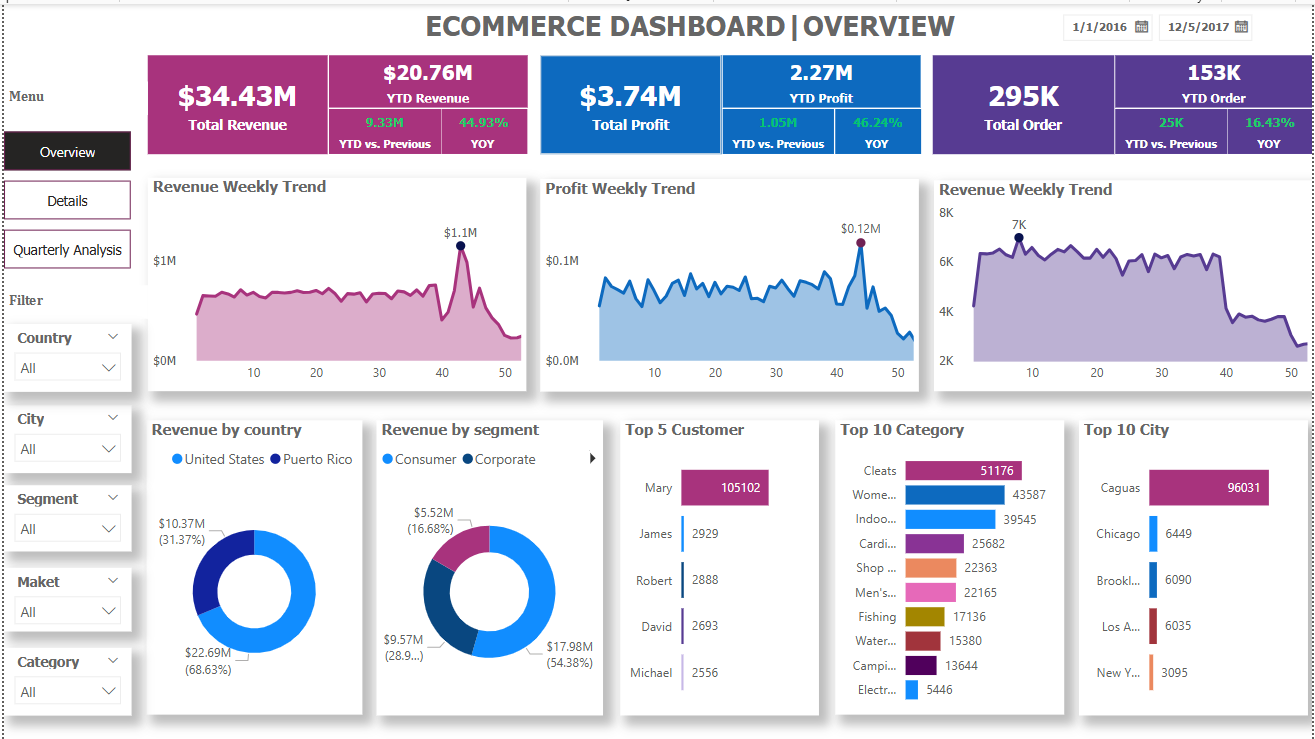

This screenshot's page, from the dashboard's own definition file:
{"tool":"powerbi","page":{"name":"Overview","canvas":[1280,720],"ordinal":0},"visuals":[{"type":"textbox","box":[407.2,0,568.6,50.1],"z":0},{"type":"card","fields":{"Values":["ecommerce_order.Total Revenue"]},"box":[140.6,50.1,176.1,96.6],"z":1000},{"type":"card","fields":{"Values":["ecommerce_order.YTD Revenue"]},"box":[317.9,50.1,194.4,51.4],"z":2000},{"type":"card","fields":{"Values":["ecommerce_order.Diff Revenue"]},"box":[318.4,102.9,109.8,43.9],"z":3000},{"type":"card","fields":{"Values":["ecommerce_order.YOY Revenue"]},"box":[428.1,102.9,83.7,43.9],"z":4000},{"type":"card","fields":{"Values":["ecommerce_order.Total Profit"]},"box":[524.6,50.1,177.3,96.6],"z":5000},{"type":"card","fields":{"Values":["ecommerce_order.YTD Profit"]},"box":[703.1,50.1,193.2,51.4],"z":6000},{"type":"card","fields":{"Values":["ecommerce_order.Diff Profit"]},"box":[703.1,102.7,108.8,44],"z":7000},{"type":"card","fields":{"Values":["ecommerce_order.Total Order"]},"box":[908.6,50.1,177.3,96.6],"z":8000},{"type":"card","fields":{"Values":["ecommerce_order.YTD Order"]},"box":[1086.8,50.1,193.2,51.4],"z":9000},{"type":"card","fields":{"Values":["ecommerce_order.Diff Order"]},"box":[1086.8,102.9,109.8,43.9],"z":10000},{"type":"card","fields":{"Values":["ecommerce_order.YOY Order"]},"box":[1196.6,102.9,83.7,43.9],"z":11000},{"type":"card","fields":{"Values":["ecommerce_order.YOY Profit"]},"box":[813.2,102.7,84.4,44],"z":12000},{"type":"slicer","fields":{"Values":["calendar.Date_format"]},"box":[1023.5,0,215.2,40.4],"z":13000},{"type":"areaChart","title":"Revenue Weekly Trend","fields":{"Category":["calendar.Week_No"],"Y":["ecommerce_order.Total Revenue","ecommerce_order.MaxPoint"]},"box":[140.6,170,370.5,209.1],"z":14000},{"type":"areaChart","title":"Profit Weekly Trend","fields":{"Category":["calendar.Week_No"],"Y":["ecommerce_order.Total Profit","ecommerce_order.MaxPoint Profit"]},"box":[524.6,171.2,370.5,207.9],"z":15000},{"type":"areaChart","title":"Revenue Weekly Trend","fields":{"Category":["calendar.Week_No"],"Y":["ecommerce_order.Total Order","ecommerce_order.MaxPoint Order"]},"box":[909.8,172.4,370.5,206.7],"z":16000},{"type":"donutChart","title":"Revenue by country","fields":{"Y":["ecommerce_order.Total Revenue"],"Category":["ecommerce_customer.customer_country"]},"box":[140,407.5,211.3,288.2],"z":17000},{"type":"donutChart","title":"Revenue by segment","fields":{"Y":["ecommerce_order.Total Revenue"],"Category":["ecommerce_customer.customer_segment"]},"box":[364.4,407.2,221.3,288.6],"z":18000},{"type":"clusteredBarChart","title":"Top 5 Customer","fields":{"Y":["ecommerce_order.Total Order"],"Category":["ecommerce_customer.customer_fname"]},"box":[602.9,407.2,194.4,288.6],"z":19000},{"type":"clusteredBarChart","title":"Top 10 Category","fields":{"Y":["ecommerce_order.Total Order"],"Category":["ecommerce_order.category_name"]},"box":[813.7,407.5,223.7,288.2],"z":20000},{"type":"textbox","box":[0,75.8,140.6,33],"z":21000},{"type":"textbox","box":[0,275.1,140.6,33],"z":22000},{"type":"slicer","fields":{"Values":["ecommerce_customer.customer_city"]},"box":[0,392.5,124.7,66],"z":23000},{"type":"slicer","fields":{"Values":["ecommerce_customer.customer_segment"]},"box":[0,470.8,124.7,64.8],"z":24000},{"type":"slicer","fields":{"Values":["ecommerce_order.market"]},"box":[0,551.5,124.7,62.4],"z":25000},{"type":"slicer","fields":{"Values":["ecommerce_order.category_name"]},"box":[0,629.8,124.7,66],"z":26000},{"type":"pageNavigator","box":[0,124.7,124.7,135.7],"z":27000},{"type":"slicer","fields":{"Values":["ecommerce_customer.customer_country"]},"box":[0,313,124.7,66],"z":28000},{"type":"clusteredBarChart","title":"Top 10 City","fields":{"Y":["ecommerce_order.Total Order"],"Category":["ecommerce_customer.customer_city"]},"box":[1051.6,407.2,223.8,288.6],"z":28001}]}

Visuals, with their boxes in screenshot pixels (x1, y1, x2, y2), scaled from the page's 1280x720 canvas onto the 1315x739 screenshot:
textbox: <box>418,0,1002,51</box>
card - ecommerce_order.Total Revenue: <box>144,51,325,151</box>
card - ecommerce_order.YTD Revenue: <box>327,51,526,104</box>
card - ecommerce_order.Diff Revenue: <box>327,106,440,151</box>
card - ecommerce_order.YOY Revenue: <box>440,106,526,151</box>
card - ecommerce_order.Total Profit: <box>539,51,721,151</box>
card - ecommerce_order.YTD Profit: <box>722,51,921,104</box>
card - ecommerce_order.Diff Profit: <box>722,105,834,151</box>
card - ecommerce_order.Total Order: <box>933,51,1116,151</box>
card - ecommerce_order.YTD Order: <box>1117,51,1314,104</box>
card - ecommerce_order.Diff Order: <box>1117,106,1229,151</box>
card - ecommerce_order.YOY Order: <box>1229,106,1314,151</box>
card - ecommerce_order.YOY Profit: <box>835,105,922,151</box>
slicer - calendar.Date_format: <box>1051,0,1273,41</box>
"Revenue Weekly Trend" areaChart: <box>144,174,525,389</box>
"Profit Weekly Trend" areaChart: <box>539,176,920,389</box>
"Revenue Weekly Trend" areaChart: <box>935,177,1314,389</box>
"Revenue by country" donutChart: <box>144,418,361,714</box>
"Revenue by segment" donutChart: <box>374,418,602,714</box>
"Top 5 Customer" clusteredBarChart: <box>619,418,819,714</box>
"Top 10 Category" clusteredBarChart: <box>836,418,1066,714</box>
textbox: <box>0,78,144,112</box>
textbox: <box>0,282,144,316</box>
slicer - ecommerce_customer.customer_city: <box>0,403,128,471</box>
slicer - ecommerce_customer.customer_segment: <box>0,483,128,550</box>
slicer - ecommerce_order.market: <box>0,566,128,630</box>
slicer - ecommerce_order.category_name: <box>0,646,128,714</box>
pageNavigator: <box>0,128,128,267</box>
slicer - ecommerce_customer.customer_country: <box>0,321,128,389</box>
"Top 10 City" clusteredBarChart: <box>1080,418,1310,714</box>
